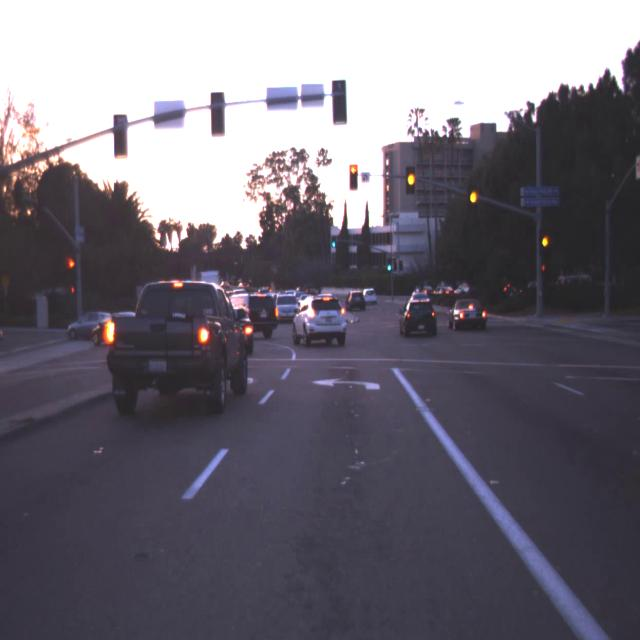arka_lamba: (210, 92, 225, 138), (332, 81, 347, 124), (113, 115, 128, 158)
kirmizi: (349, 165, 358, 192)
sari: (406, 167, 416, 195), (468, 185, 478, 210)
